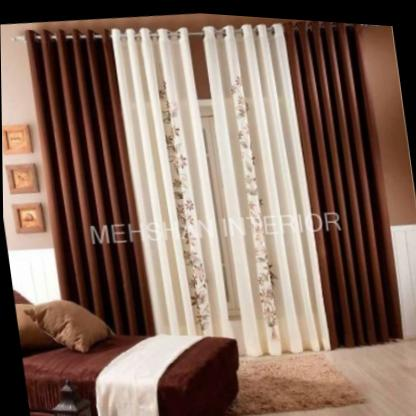Curtains: (193, 16, 402, 355), (25, 25, 231, 335)
